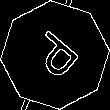P_SE: (24, 24, 86, 86)
